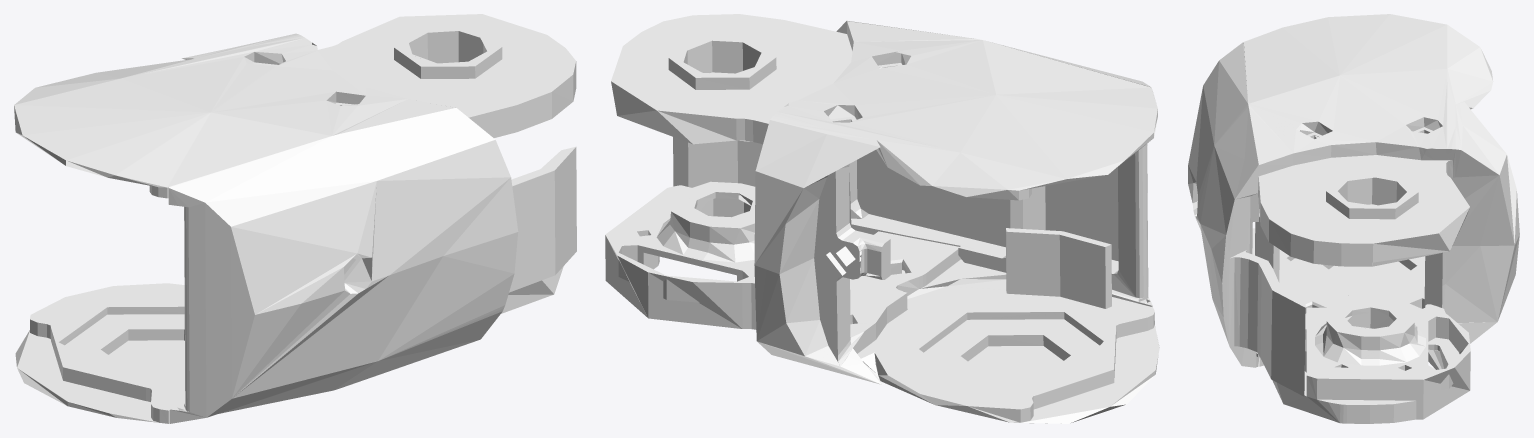
File: hit-hand-2-finger-phamed-rot.dae
The picture shows the model from 3 angles, left to right: view 1: azimuth 30°, elevation 25°; view 2: azimuth 150°, elevation 25°; view 3: azimuth 270°, elevation 25°; orthographic projection. The views are drawn at different scales.
Visible parts, largest first — view 1: node; view 2: node; view 3: node.
Boxes of the visible parts, bbox=[...] form: node: bbox=[14, 14, 576, 423]; node: bbox=[605, 14, 1159, 423]; node: bbox=[1188, 14, 1519, 423].
Size of the model in its own units: 0.0439 by 0.0209 by 0.0287.
Materials: 1 (1 with a texture image).
